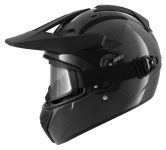Helmet: (3, 2, 162, 145)
